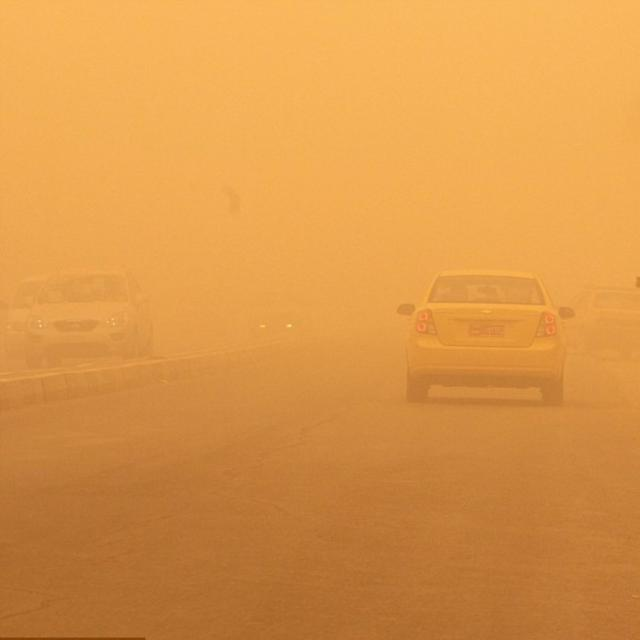car: (402, 266, 571, 407), (20, 264, 151, 374), (568, 283, 639, 364), (4, 276, 43, 357), (256, 298, 308, 340)
